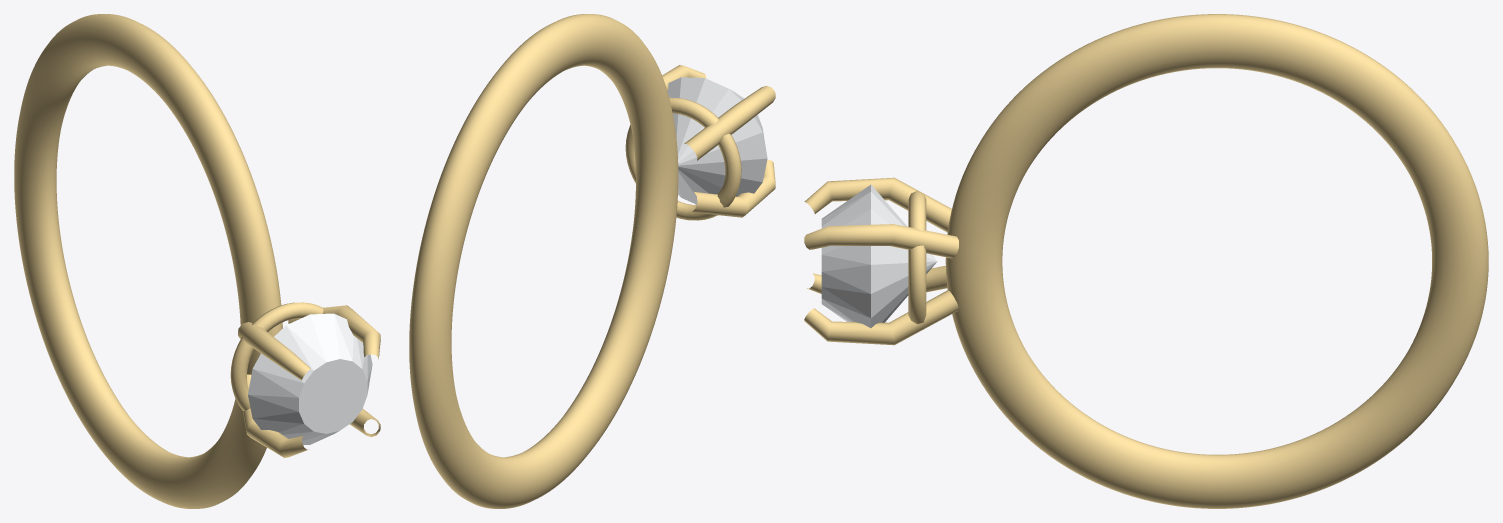
File: juvia-ring.glb
3 views of the same model, side by side, from view 1: azimuth 30°, elevation 25°; view 2: azimuth 150°, elevation 25°; view 3: azimuth 270°, elevation 25° (orthographic). The views are drawn at different scales.
Parts seen in each view (by area): view 1: Band, Stone; view 2: Band, Stone; view 3: Band, Stone.
Part boxes in pixels (x1,y1,x2,y2): Band: (14,14,380,508); Stone: (248,313,372,444); Band: (409,14,775,508); Stone: (667,77,767,204); Band: (804,14,1488,508); Stone: (821,184,937,327).
Size of the model in its own units: 0.006 by 0.0211 by 0.0266.
